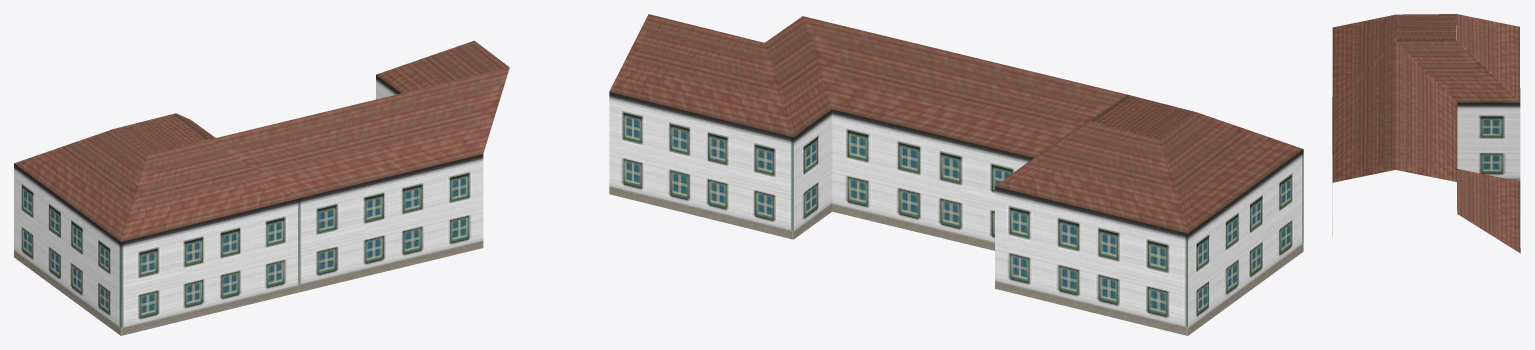
File: AApart03.glb
The picture shows the model from 3 angles, left to right: view 1: azimuth 30°, elevation 25°; view 2: azimuth 150°, elevation 25°; view 3: azimuth 270°, elevation 25°; orthographic projection. The views are drawn at different scales.
Parts seen in each view (by area): view 1: AApart03; view 2: AApart03; view 3: AApart03.
Part boxes in pixels (x1=…): AApart03: x1=14, y1=40, x2=509, y2=335; AApart03: x1=609, y1=14, x2=1303, y2=335; AApart03: x1=1332, y1=14, x2=1520, y2=253.
Size of the model in its own units: 7416 by 1879 by 2592.
1 material, 1 textured.
